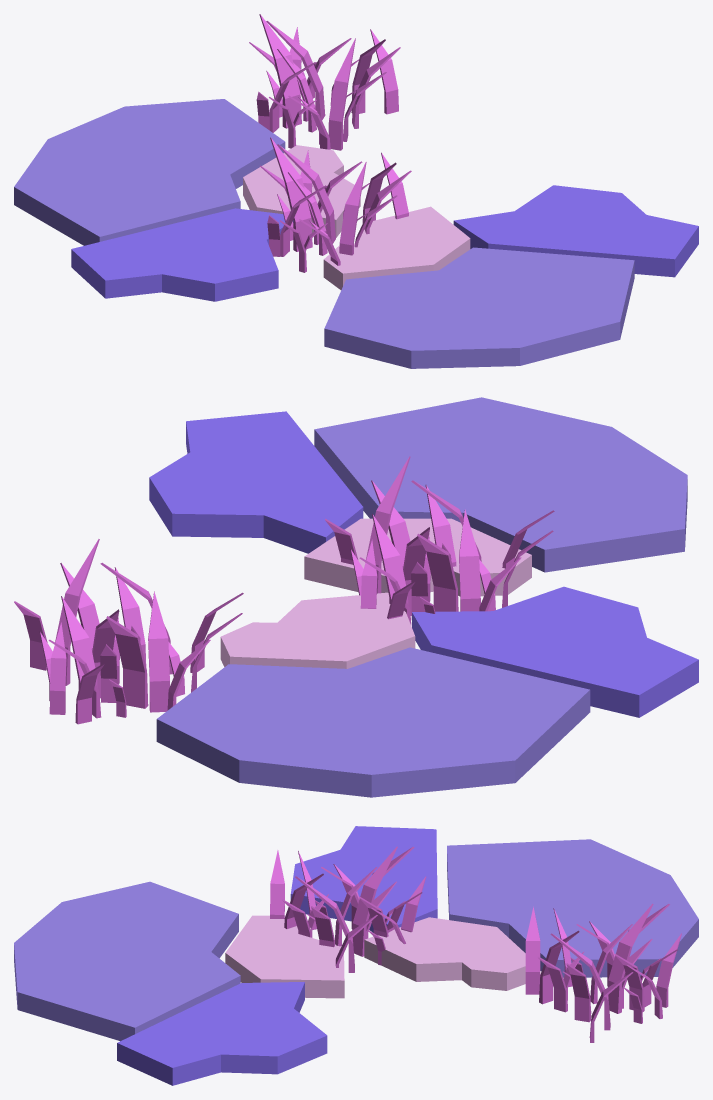
Rendered from NC_Stone07.fbx.
The picture shows the model from 3 angles, top to bottom: view 1: azimuth 30°, elevation 25°; view 2: azimuth 150°, elevation 25°; view 3: azimuth 270°, elevation 25°; orthographic projection. The views are drawn at different scales.
Visible parts, largest first — view 1: NC_Stone07; view 2: NC_Stone07; view 3: NC_Stone07.
Boxes of the visible parts, x1,y1,x2,y2 form: NC_Stone07: (14,14,698,368); NC_Stone07: (14,397,698,797); NC_Stone07: (14,826,698,1085).
Size of the model in its own units: 69.57 by 12.55 by 83.25.
1 material, 1 textured.
